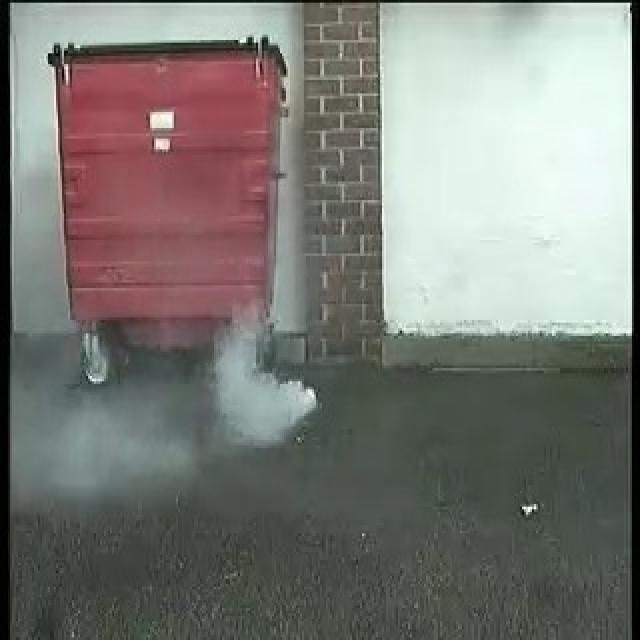Smoke: (211, 278, 323, 447)
